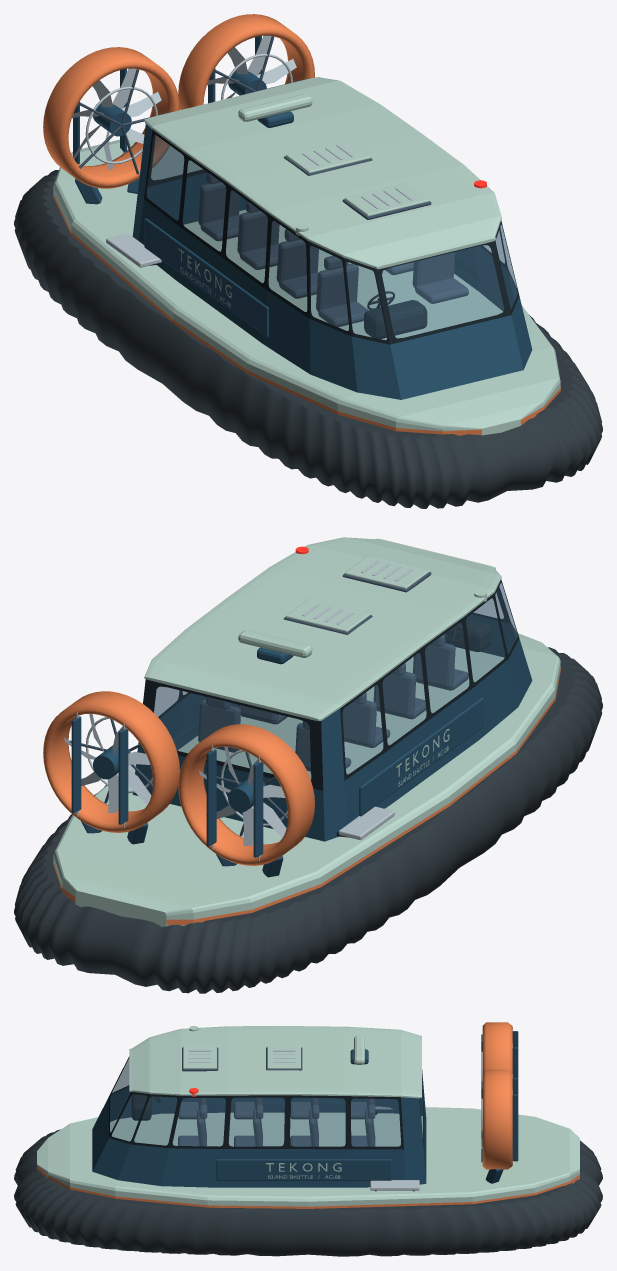
3 renders of one model, top to bottom at view 1: azimuth 30°, elevation 25°; view 2: azimuth 150°, elevation 25°; view 3: azimuth 270°, elevation 25°, orthographic. The views are drawn at different scales.
Parts seen in each view (by area): view 1: Tekong Passenger Hovercraft; view 2: Tekong Passenger Hovercraft; view 3: Tekong Passenger Hovercraft.
Boxes of the visible parts, x1,y1,x2,y2 form: Tekong Passenger Hovercraft: (14, 14, 602, 508); Tekong Passenger Hovercraft: (14, 537, 602, 993); Tekong Passenger Hovercraft: (14, 1022, 602, 1256).
Bounding box in the file's own units: 4.14 × 2.84 × 9.46.
